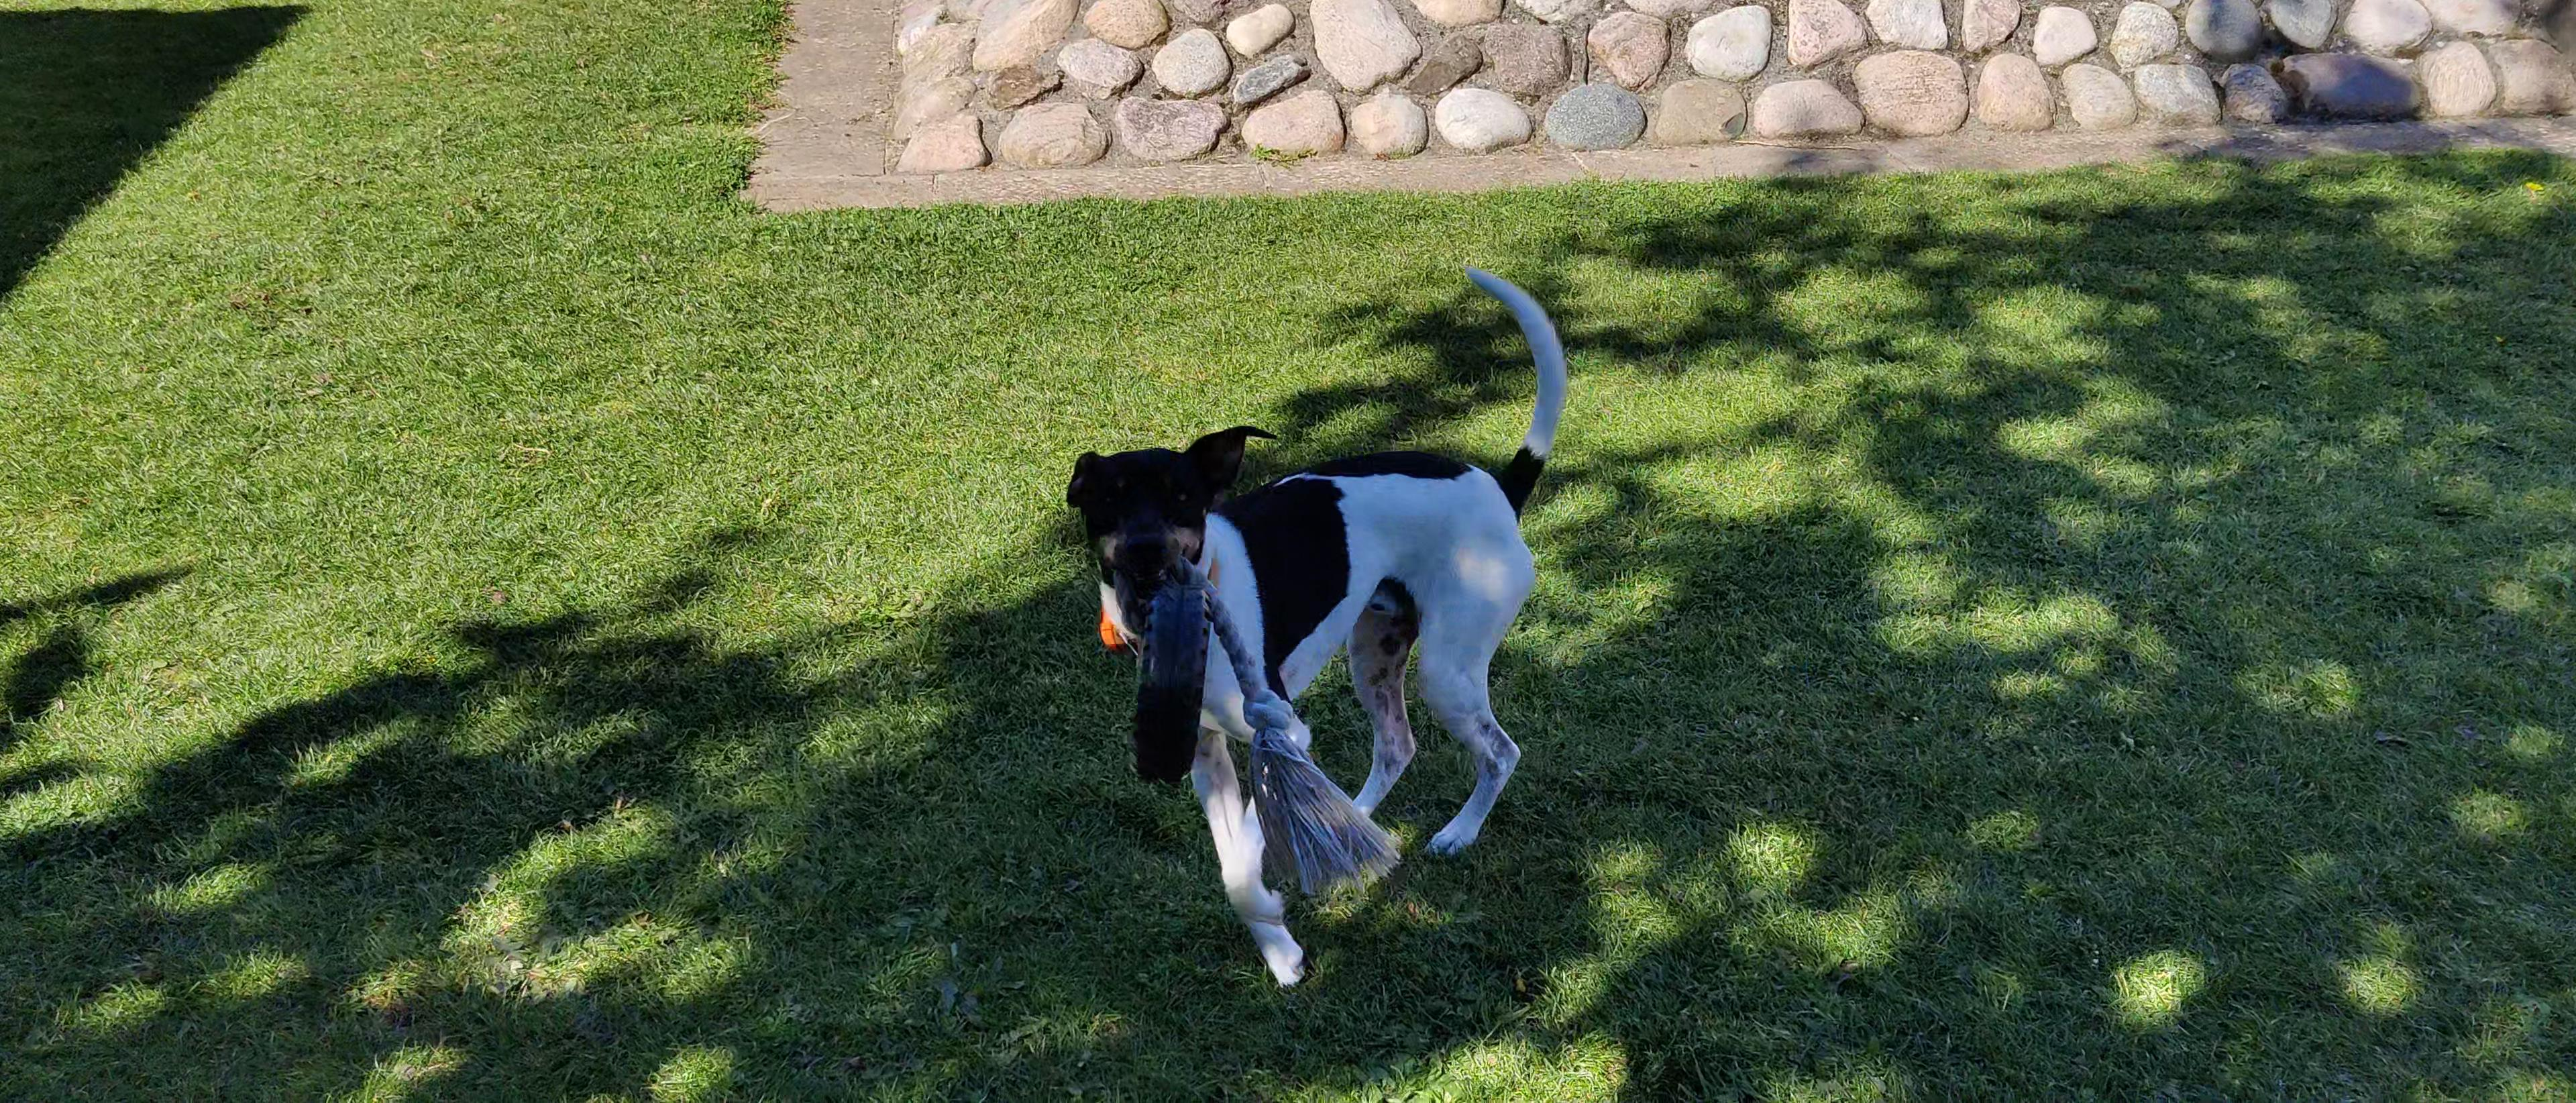Dog: (999, 258, 1633, 993)
